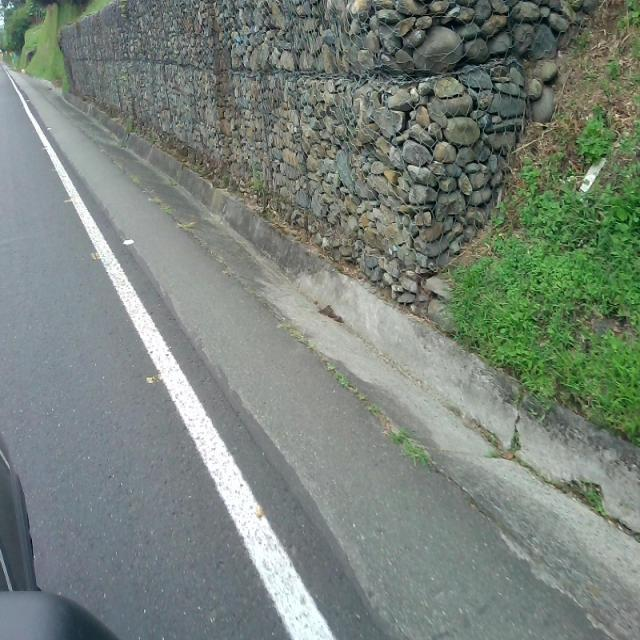DITCH: (2, 57, 638, 638)
